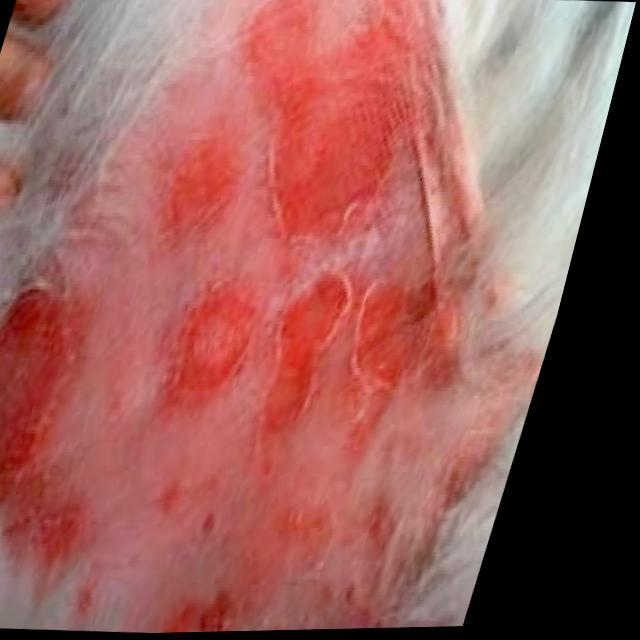viem da do vi khuan (cho): (0, 0, 598, 633)
